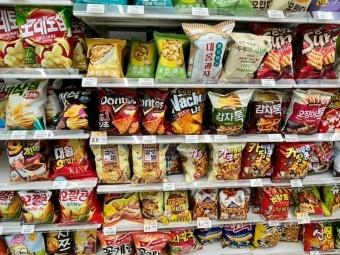snack: (17, 7, 72, 70), (182, 18, 236, 82), (4, 78, 50, 131), (281, 89, 335, 134), (297, 25, 339, 80), (207, 88, 256, 135), (52, 87, 94, 132), (169, 88, 206, 135), (152, 32, 189, 78), (84, 38, 127, 77), (209, 142, 247, 182)
